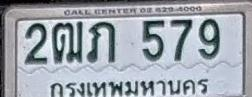2: (24, 22, 46, 64)
5: (142, 19, 165, 61)
7: (170, 18, 192, 60)
9: (198, 18, 220, 59)
A18: (52, 21, 83, 63)
A32: (86, 21, 116, 63)
BKK: (46, 75, 209, 97)
